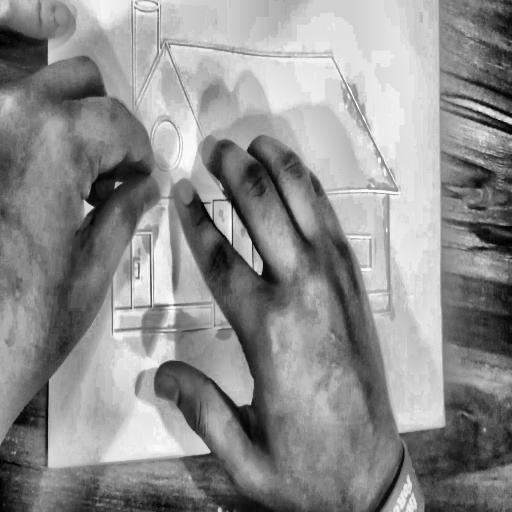bottom_left: (44, 456, 54, 474)
bottom_right: (438, 415, 450, 435)
house: (96, 1, 404, 349)
